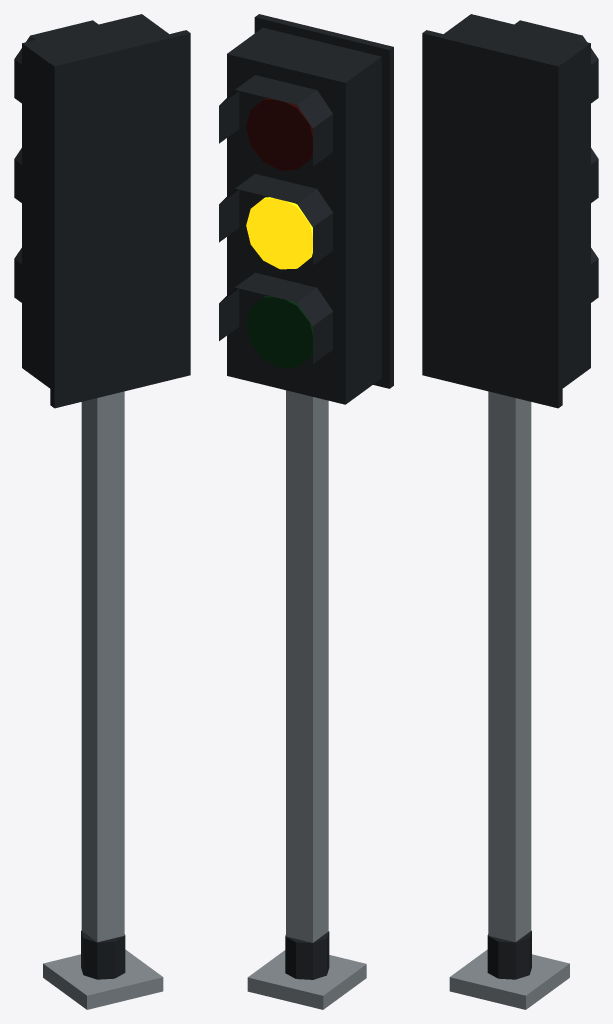
The model's file is traffic-signal.glb.
The picture shows the model from 3 angles, left to right: view 1: azimuth 30°, elevation 25°; view 2: azimuth 150°, elevation 25°; view 3: azimuth 330°, elevation 25°; orthographic projection.
Parts seen in each view (by area): view 1: traffic-signal (×2); view 2: traffic-signal (×2); view 3: traffic-signal (×2).
Part boxes in pixels (bbox=[...]): traffic-signal (×2): bbox=[14, 14, 190, 1009]; traffic-signal (×2): bbox=[219, 14, 393, 1009]; traffic-signal (×2): bbox=[422, 14, 598, 1009].
Bounding box in the file's own units: 1.4 × 9.32 × 1.13.
